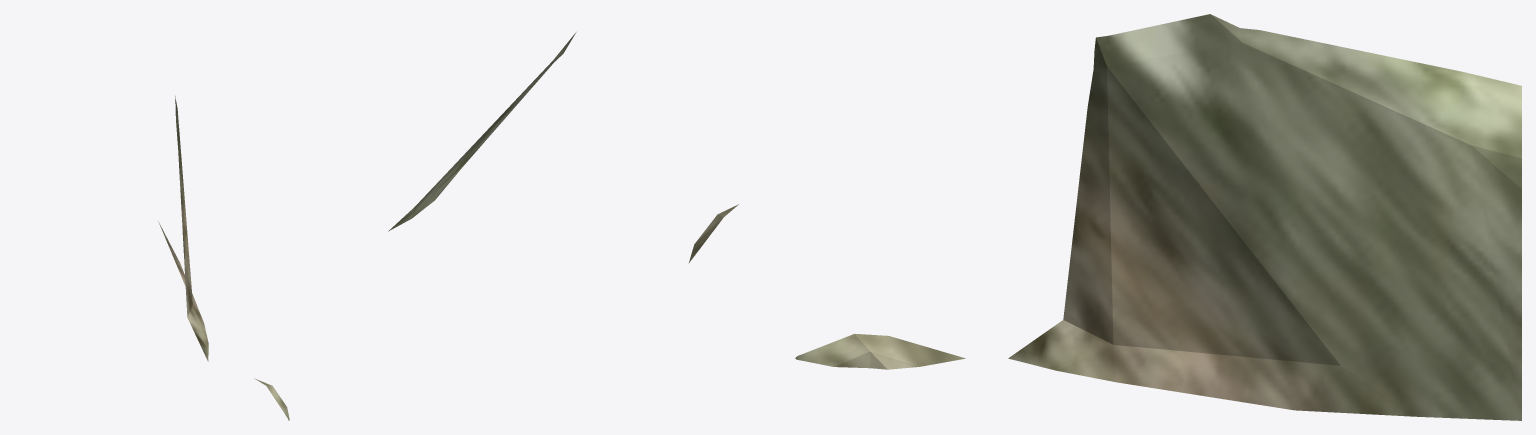
3 views of the same model, side by side, from view 1: azimuth 30°, elevation 25°; view 2: azimuth 150°, elevation 25°; view 3: azimuth 270°, elevation 25° (orthographic). The views are drawn at different scales.
Bounding box in the file's own units: 0.6984 × 1.8 × 3.44.
Materials: 1 (1 with a texture image).
